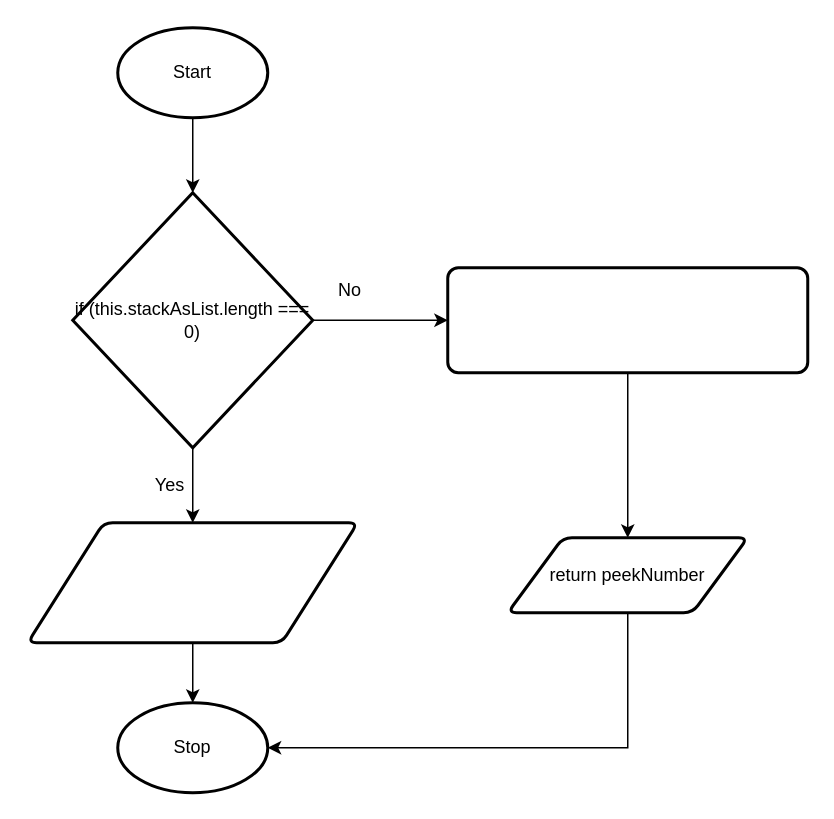
Image size: 834x819. Some labels were removed from this diagram. The shapes that lost their labels are listed below. From the top down, each one's centre as x and y in pixels, then its label:
pixel 627 320: peekNumber = this.stackAsList[this.stackAsList.length - 1]
pixel 192 582: show "Nothing in the list!"
